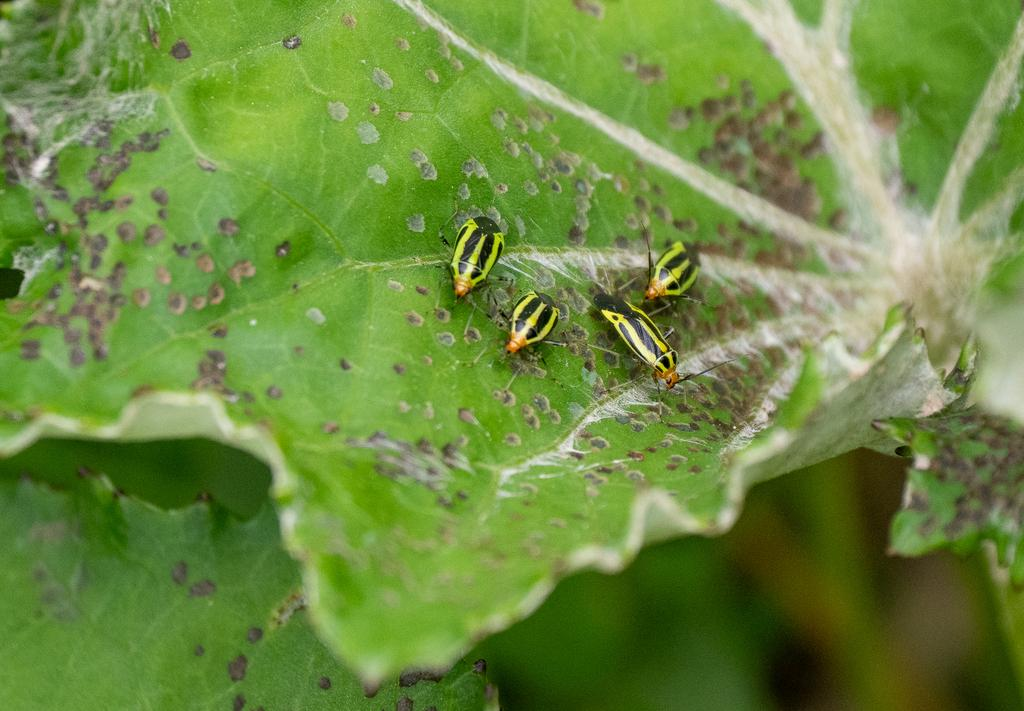plant_bugs: (585, 267, 698, 408), (420, 193, 522, 315), (625, 210, 724, 318), (490, 267, 575, 383)
